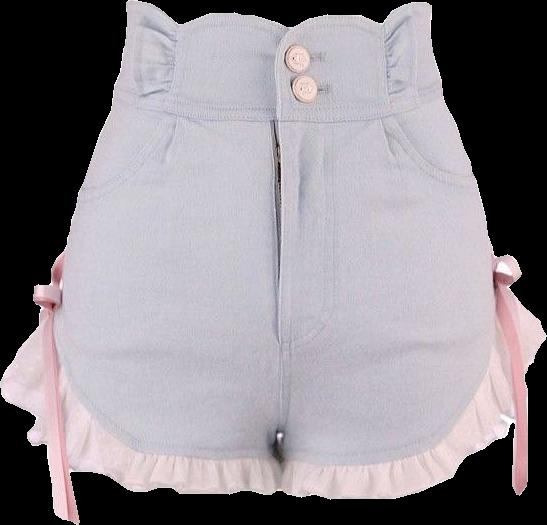Hemline: (276, 251, 546, 504), (1, 286, 279, 497)
Pantleg: (0, 0, 291, 515), (274, 2, 546, 498)
Waistline: (279, 254, 501, 466), (50, 280, 273, 461), (125, 0, 431, 33), (111, 96, 445, 125), (270, 26, 291, 121)
